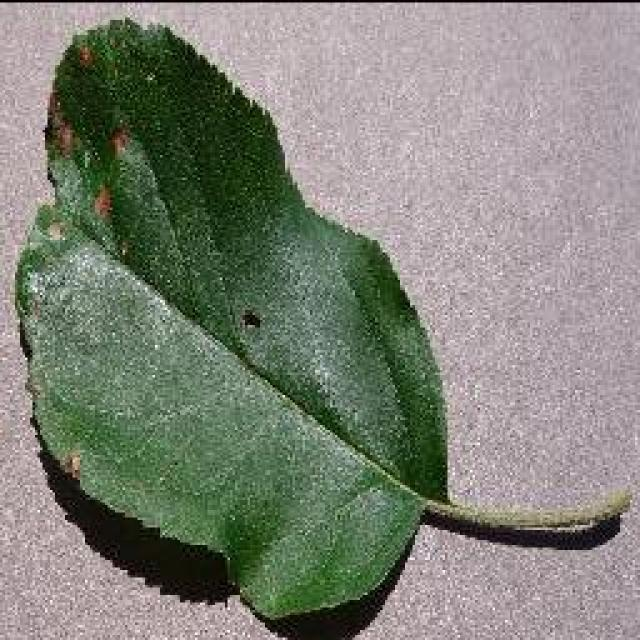black_rot: (73, 81, 140, 230)
